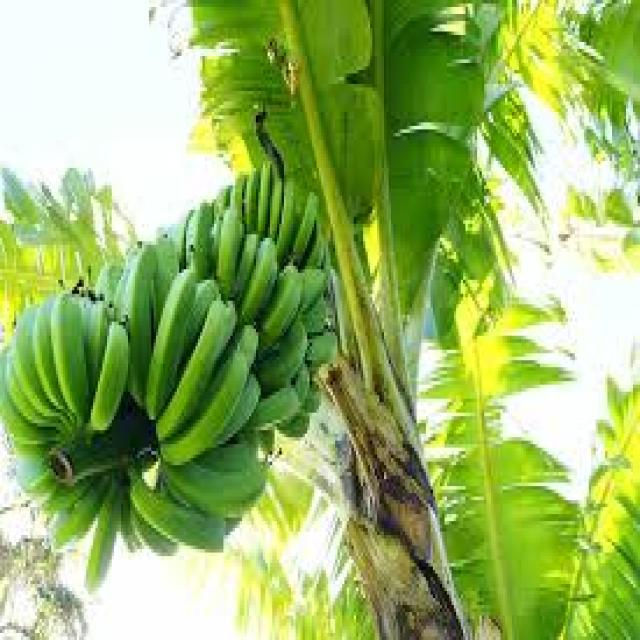banana: (0, 157, 337, 590)
